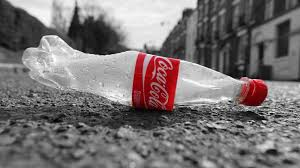Coca-Cola: (134, 49, 182, 109), (139, 56, 177, 107)
bottle: (19, 34, 270, 107)
plastic: (24, 31, 272, 108)
